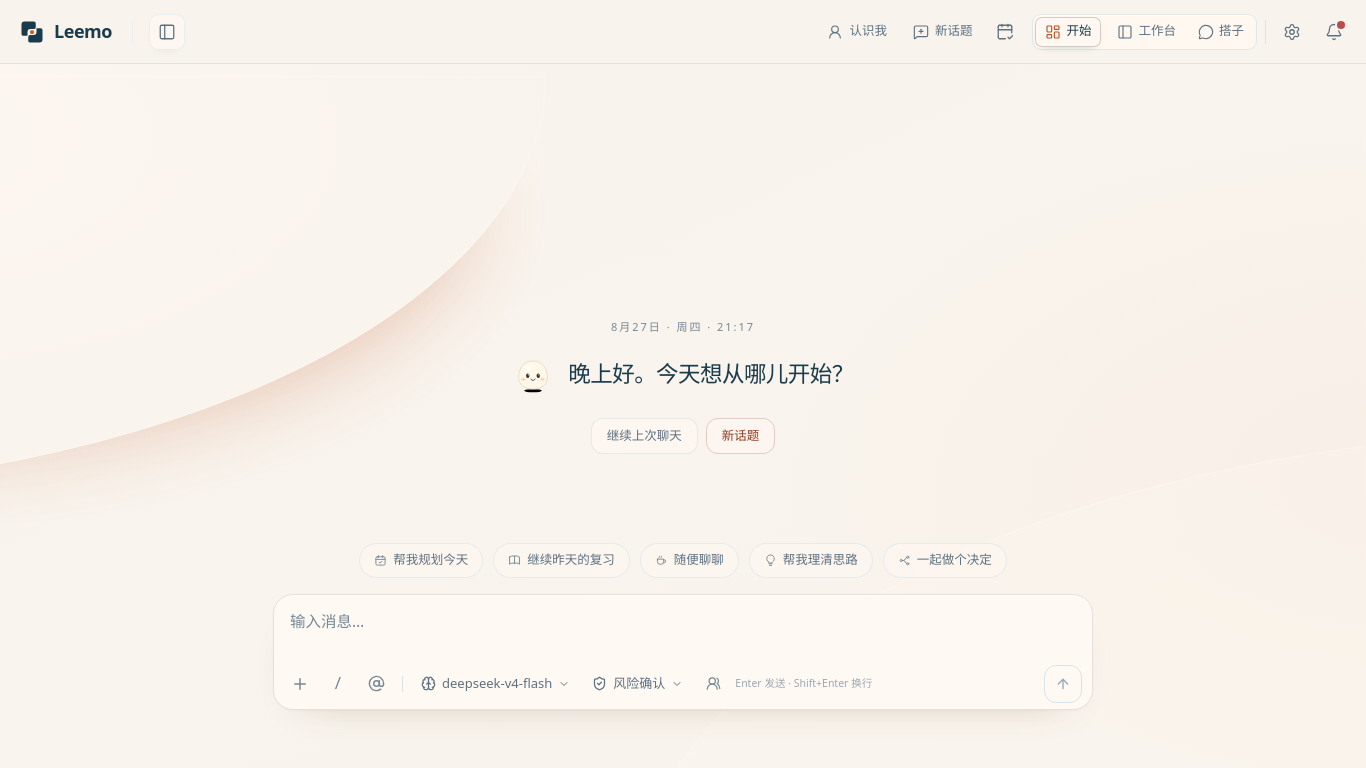
Test case: HistoryDrawer — real conversations, not fixtures › closes after a chapter is picked without starting a model request
Expected: the button "继续上次聊天" is shown, [591,418,698,454]
Click the button named "历史对话" at (167, 32), box [149,14,185,50]
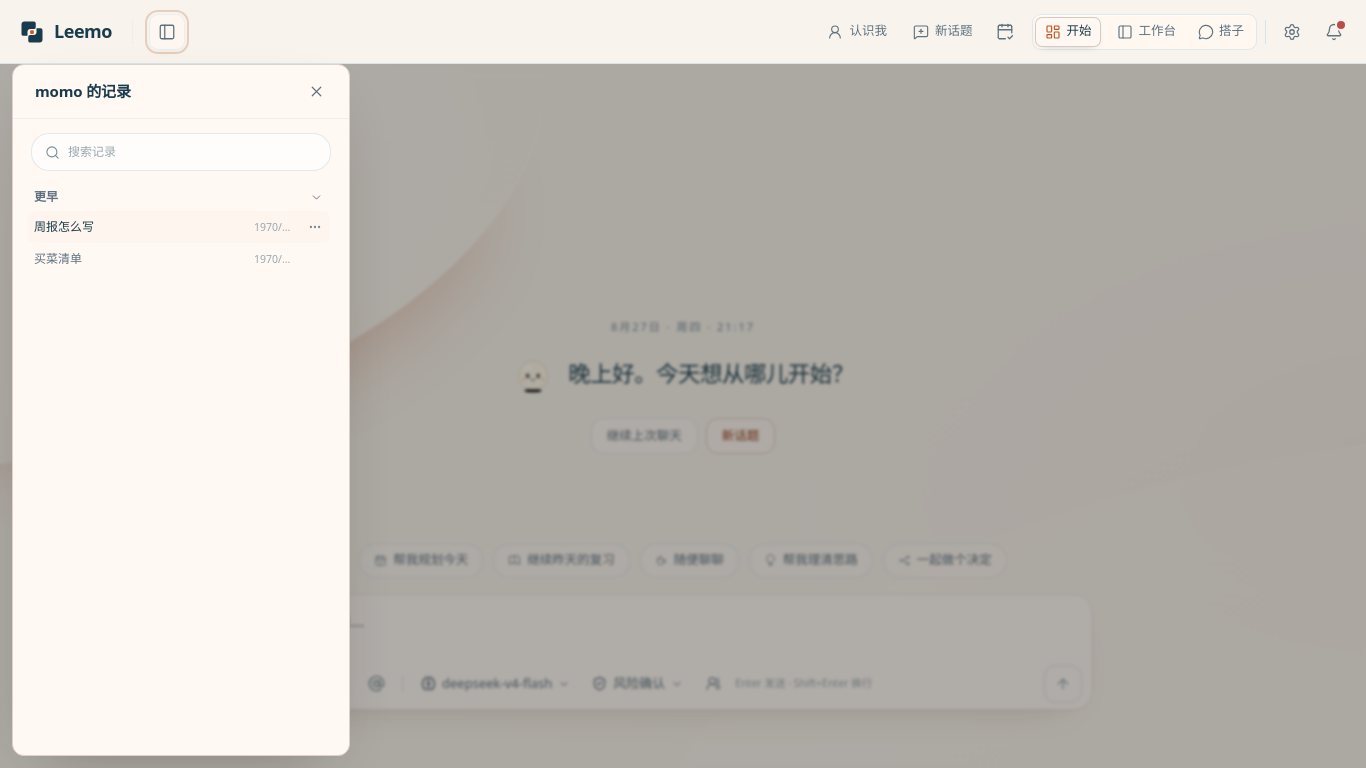
Click the button "买菜清单" at (58, 258), box [27,243,301,275]
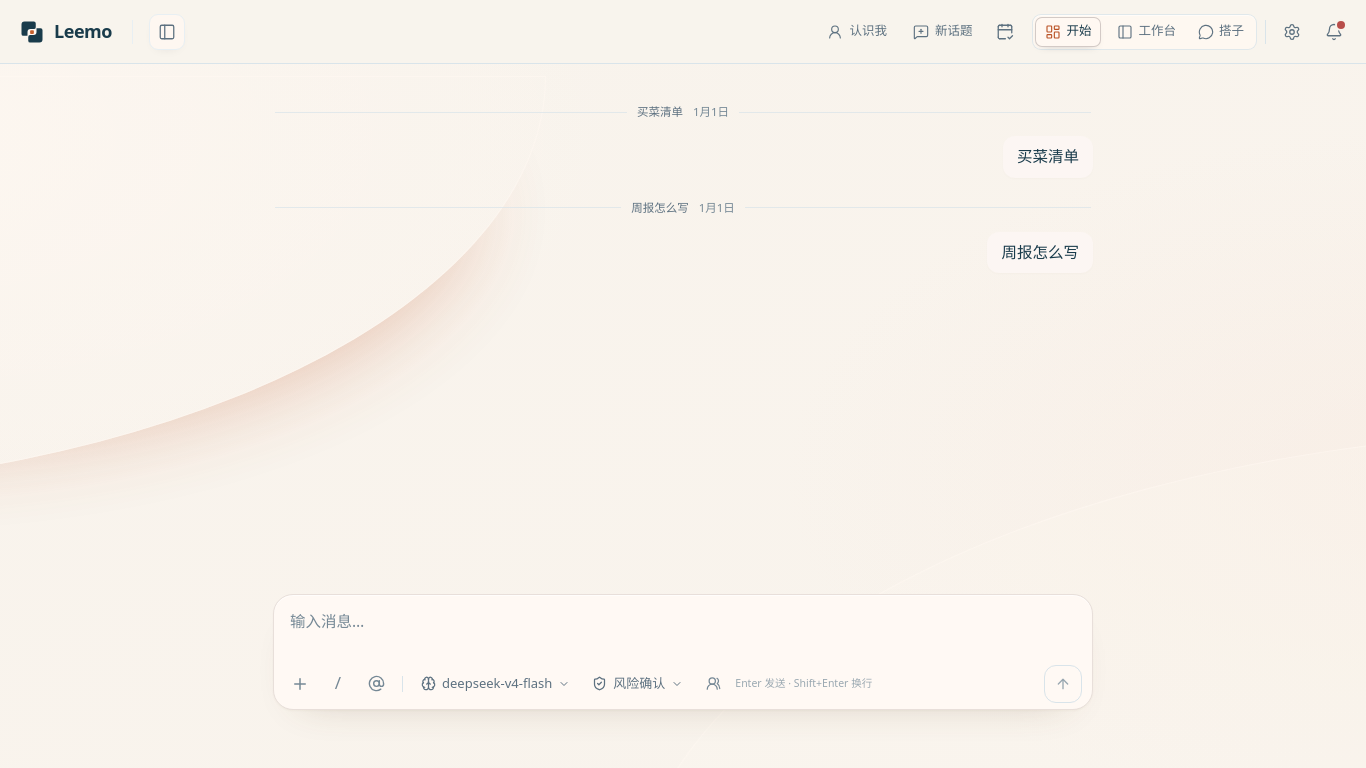
Expected: the search field labelled "搜索记录" is gone
